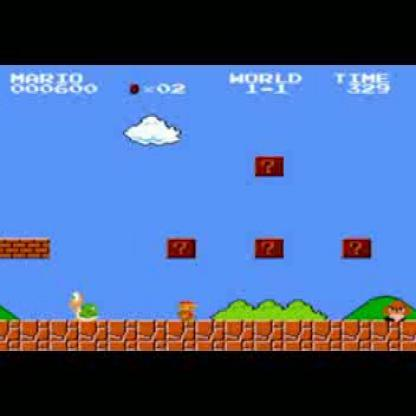Goomba: (383, 294, 414, 323)
Tortuga: (70, 288, 102, 321)
